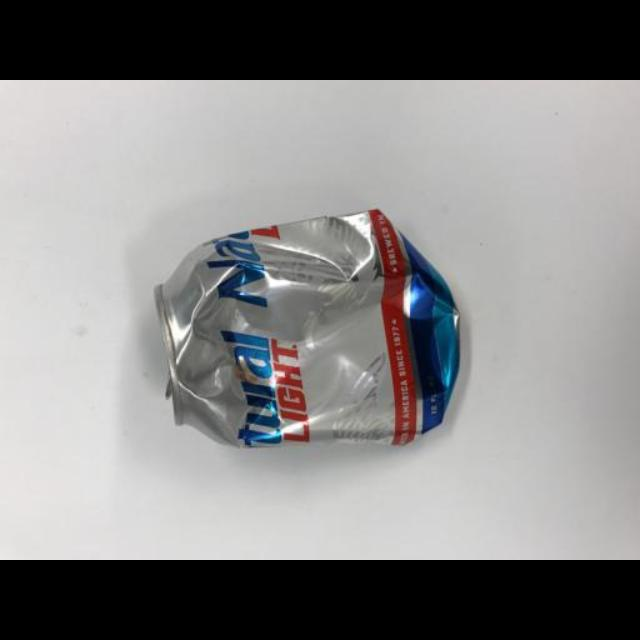lata: (153, 205, 463, 449)
